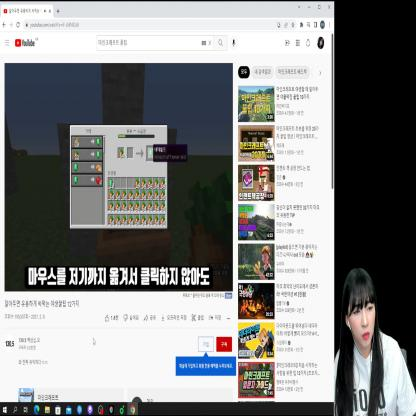streamer: (334, 263, 415, 416)
